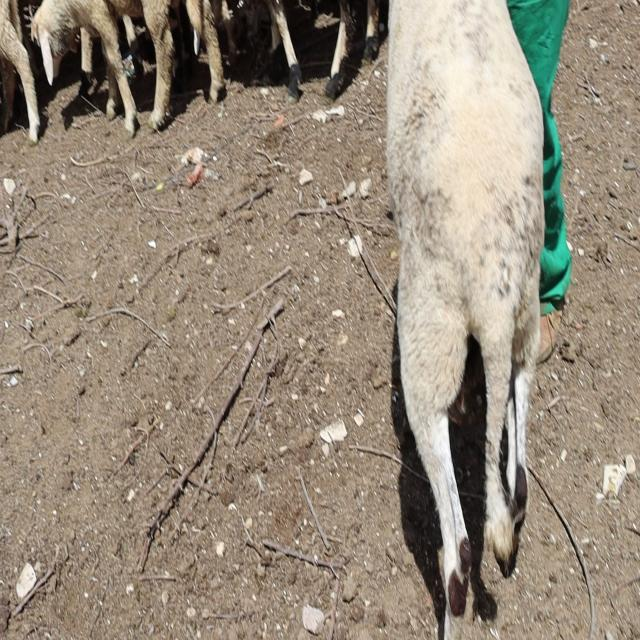Score_3: (387, 0, 545, 639)
